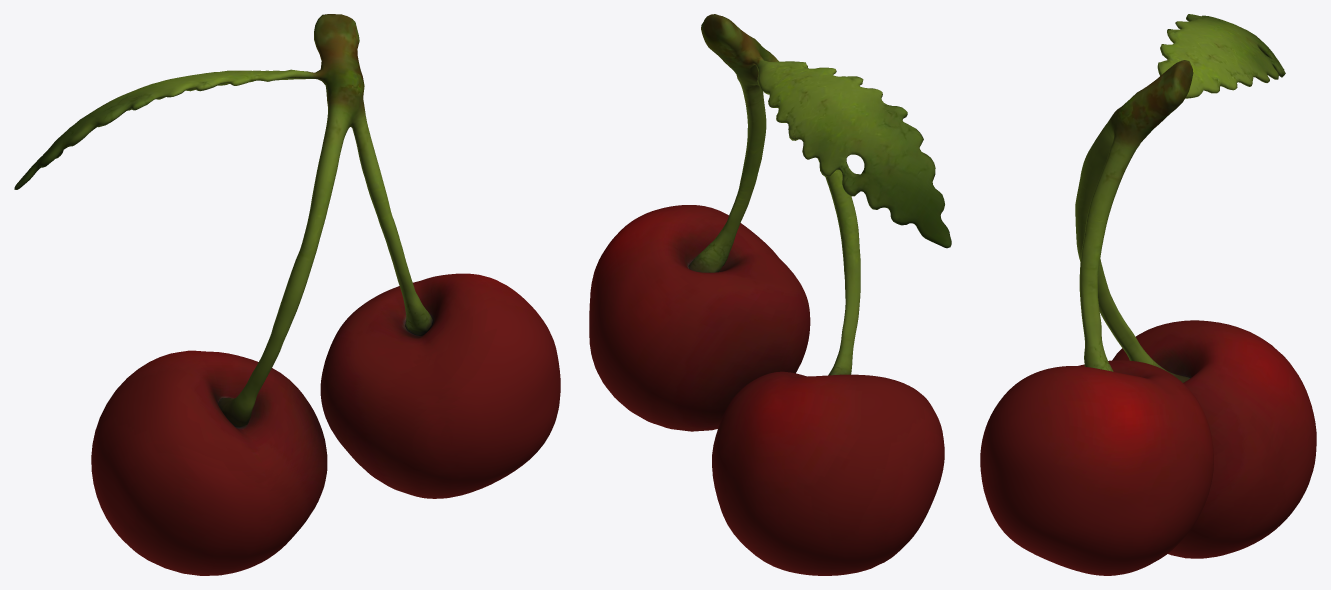
The model's file is cherry-1.glb.
3 views of the same model, side by side, from view 1: azimuth 30°, elevation 25°; view 2: azimuth 150°, elevation 25°; view 3: azimuth 270°, elevation 25° (orthographic). The views are drawn at different scales.
Parts seen in each view (by area): view 1: Object_2; view 2: Object_2; view 3: Object_2.
Boxes of the visible parts, box(x1,y1,x2,y2) form: Object_2: box(14, 14, 560, 575); Object_2: box(589, 14, 951, 575); Object_2: box(980, 14, 1316, 575).
Size of the model in its own units: 517 by 585 by 332.
Materials: 1 (1 with a texture image).
